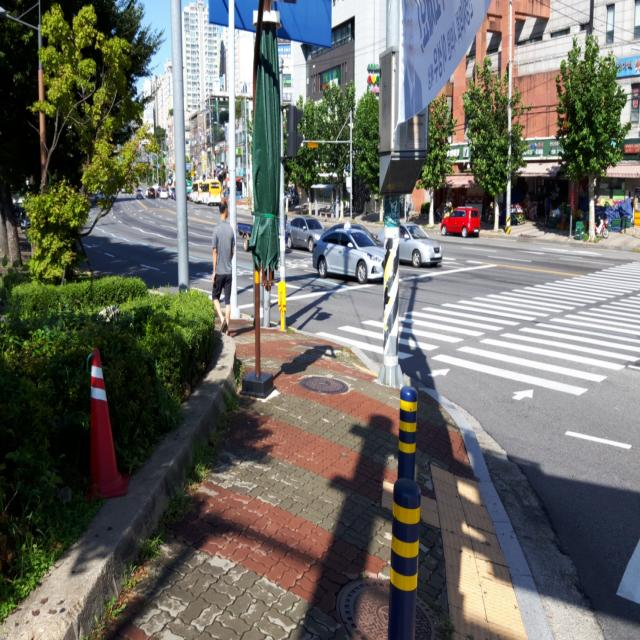횡단보도: (313, 257, 640, 404)
